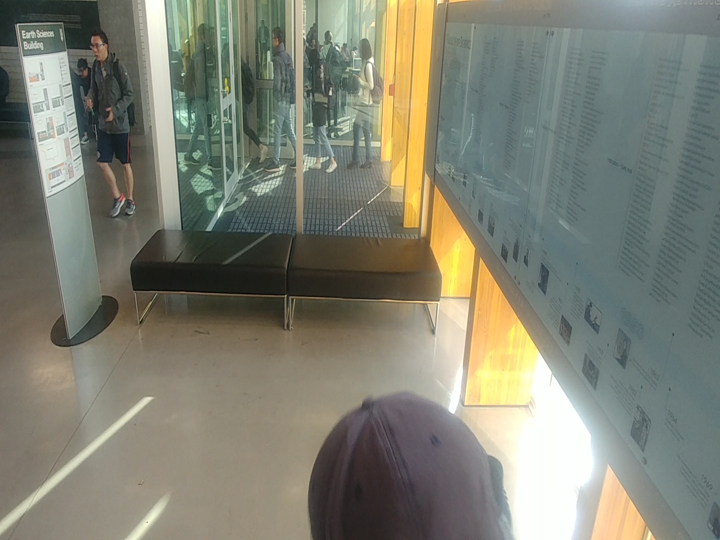face: (86, 25, 116, 61), (266, 22, 290, 58), (354, 37, 376, 62), (73, 54, 91, 77)
human: (83, 25, 142, 224), (182, 18, 221, 174), (265, 20, 301, 174), (304, 43, 341, 180), (348, 31, 382, 173)
